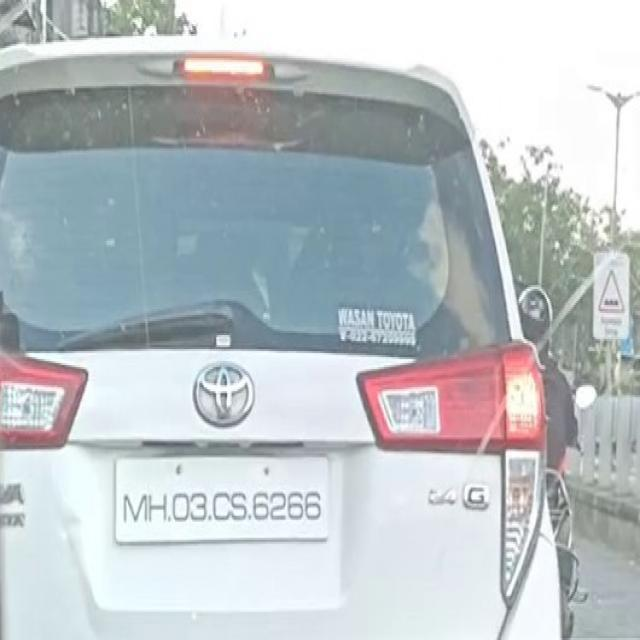Plate: (114, 454, 329, 541)
